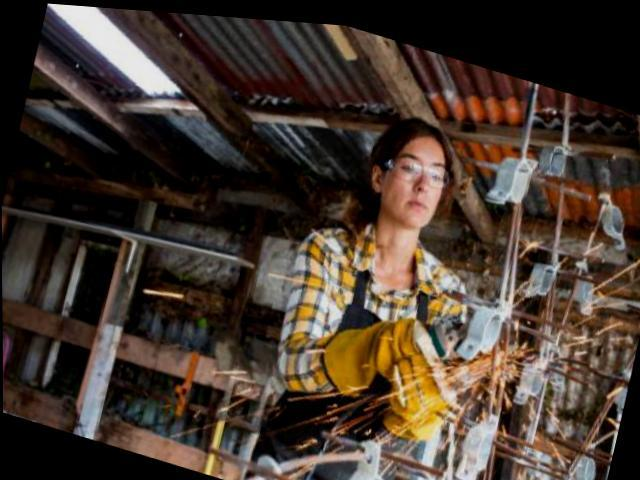Hand-in-Glove: (313, 286, 431, 412), (374, 340, 462, 444)
